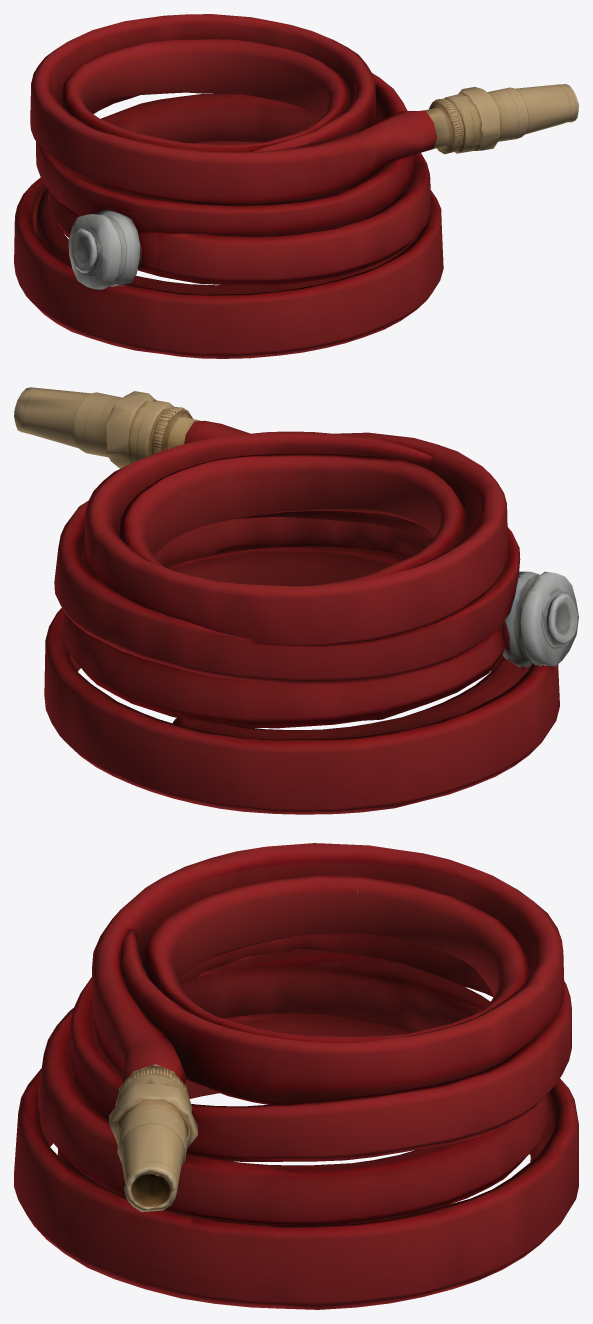
The model's file is hose.glb.
3 renders of one model, top to bottom at view 1: azimuth 30°, elevation 25°; view 2: azimuth 150°, elevation 25°; view 3: azimuth 270°, elevation 25°, orthographic. The views are drawn at different scales.
Parts seen in each view (by area): view 1: tripo_node_80ab340d-c18f-4225-8ab1-69a95aa993dd; view 2: tripo_node_80ab340d-c18f-4225-8ab1-69a95aa993dd; view 3: tripo_node_80ab340d-c18f-4225-8ab1-69a95aa993dd.
Part boxes in pixels (x1,y1,x2,y2): tripo_node_80ab340d-c18f-4225-8ab1-69a95aa993dd: [14, 14, 578, 358]; tripo_node_80ab340d-c18f-4225-8ab1-69a95aa993dd: [14, 387, 578, 814]; tripo_node_80ab340d-c18f-4225-8ab1-69a95aa993dd: [14, 843, 578, 1309].
Size of the model in its own units: 1.4 by 0.5342 by 1.09.
1 material, 1 textured.
